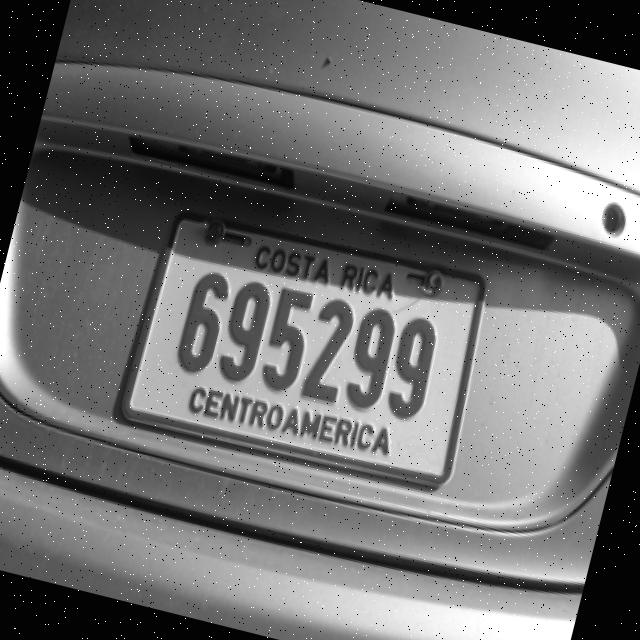Autre: (127, 216, 493, 488)
